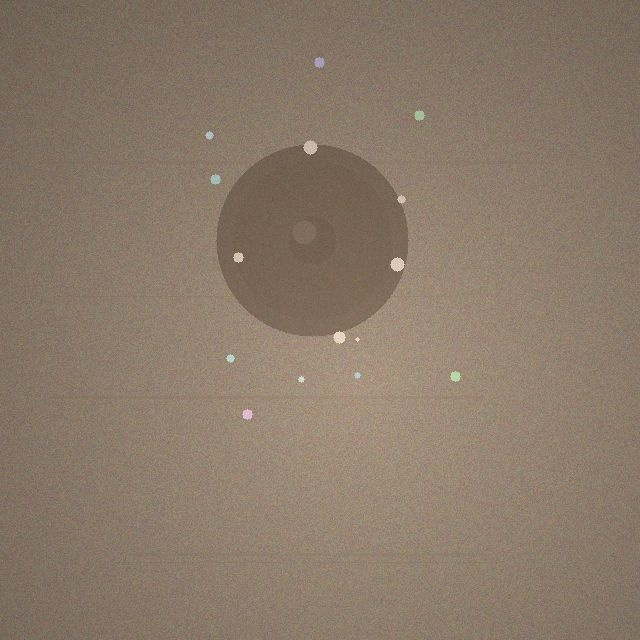overburn: (216, 144, 408, 336)
